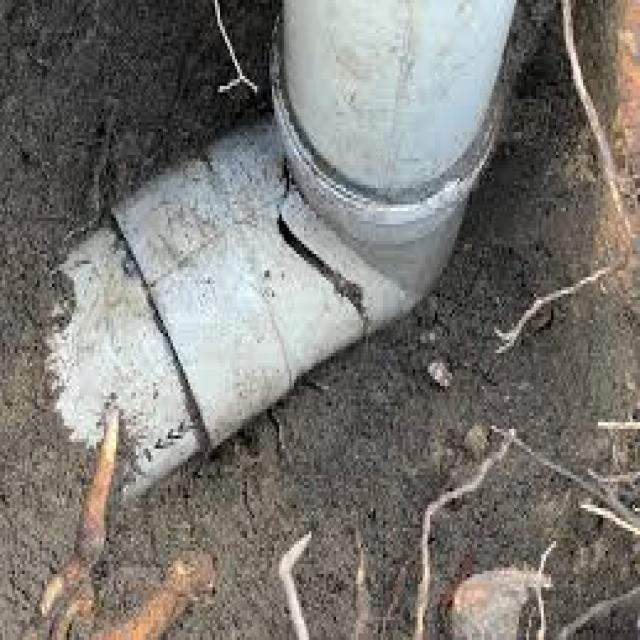crack: (280, 155, 361, 316)
